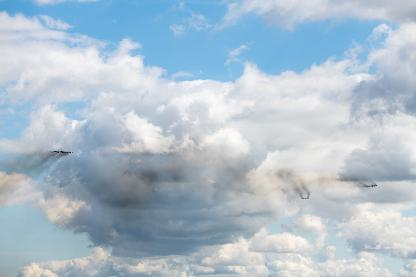B2: (48, 147, 74, 152), (364, 183, 378, 186), (301, 196, 309, 198)
